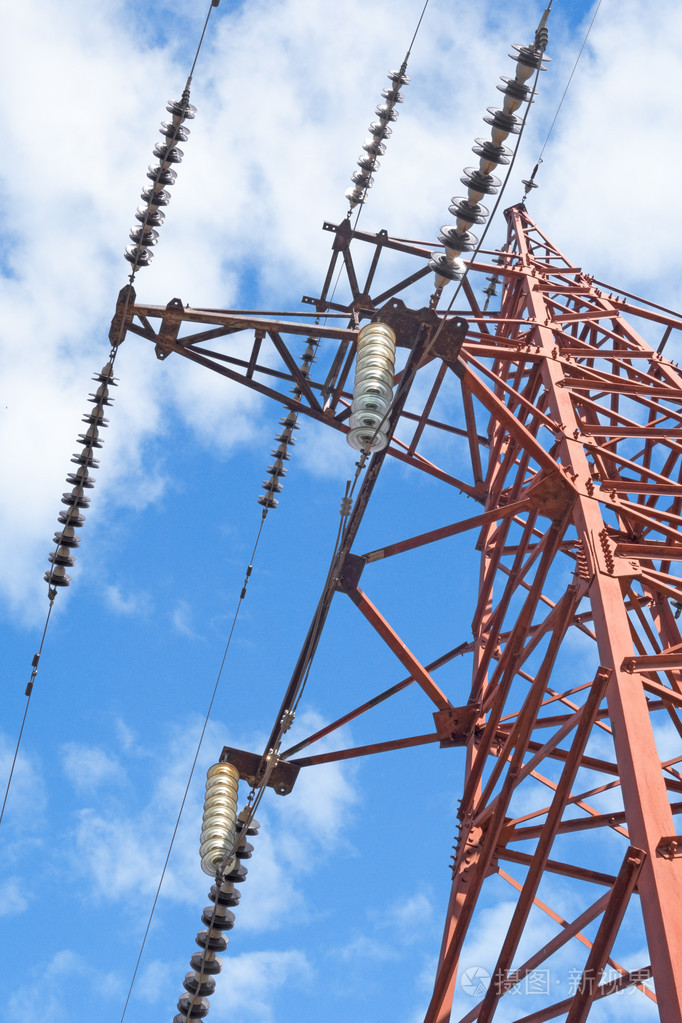insulator: (426, 43, 550, 278), (174, 811, 262, 1023), (43, 374, 119, 588), (260, 334, 322, 513), (125, 99, 190, 267), (346, 72, 410, 203), (346, 322, 397, 457), (198, 757, 237, 873)
